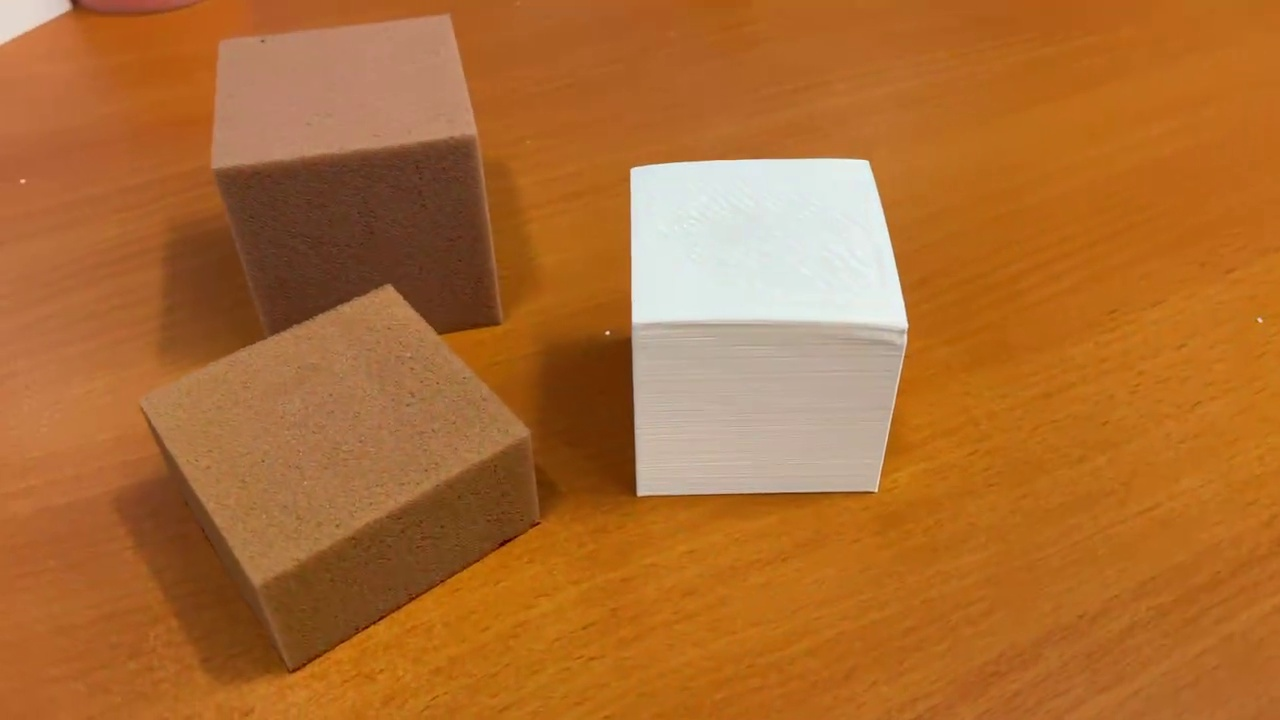Cube: (623, 155, 911, 508), (206, 12, 505, 341)
Cube_short: (133, 275, 552, 679)
